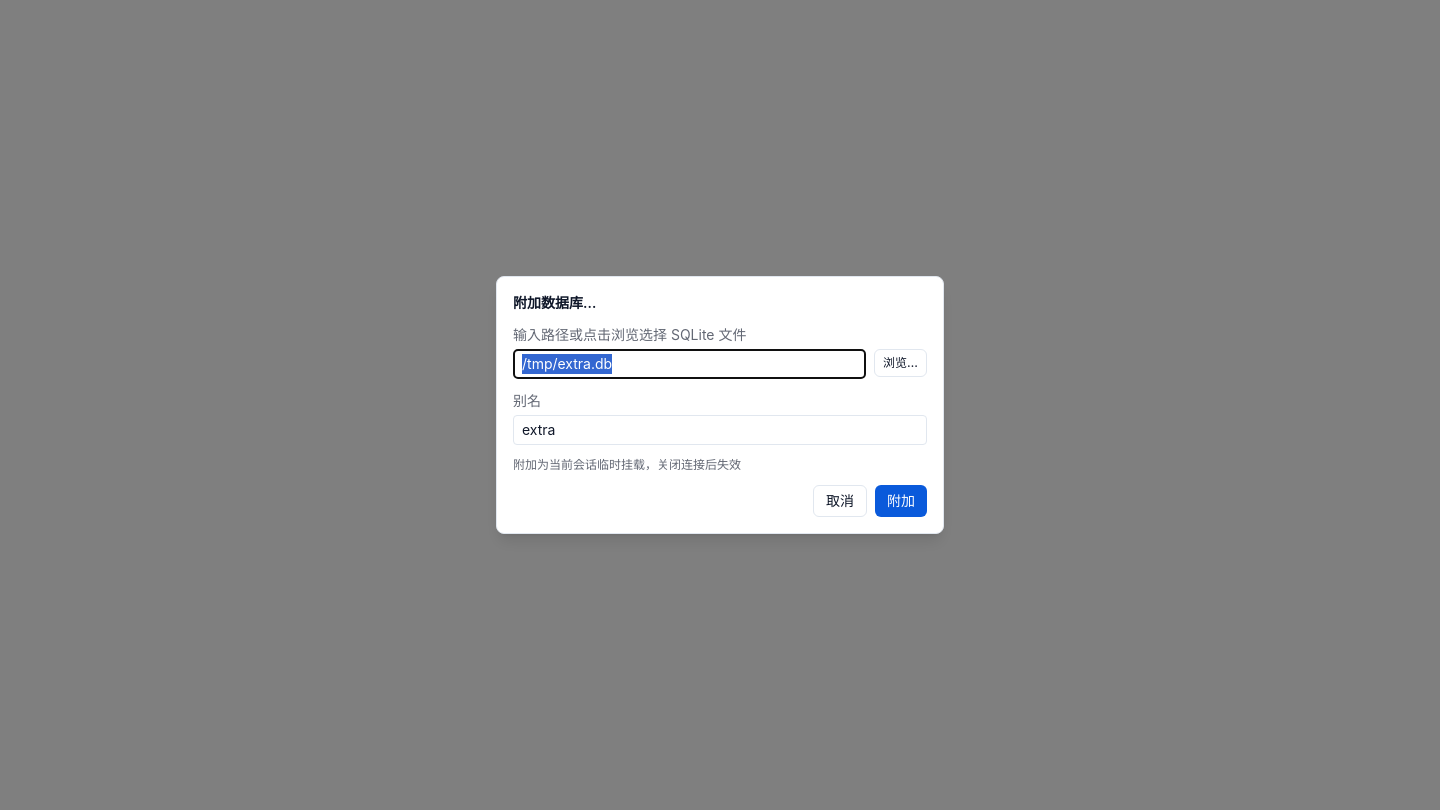
AttachDatabaseDialog › disables attach when alias is reserved
The image size is (1440, 810).
Replace the text in the field labelled "别名" with "main" at {"x": 720, "y": 430}, box [513,415,927,445]
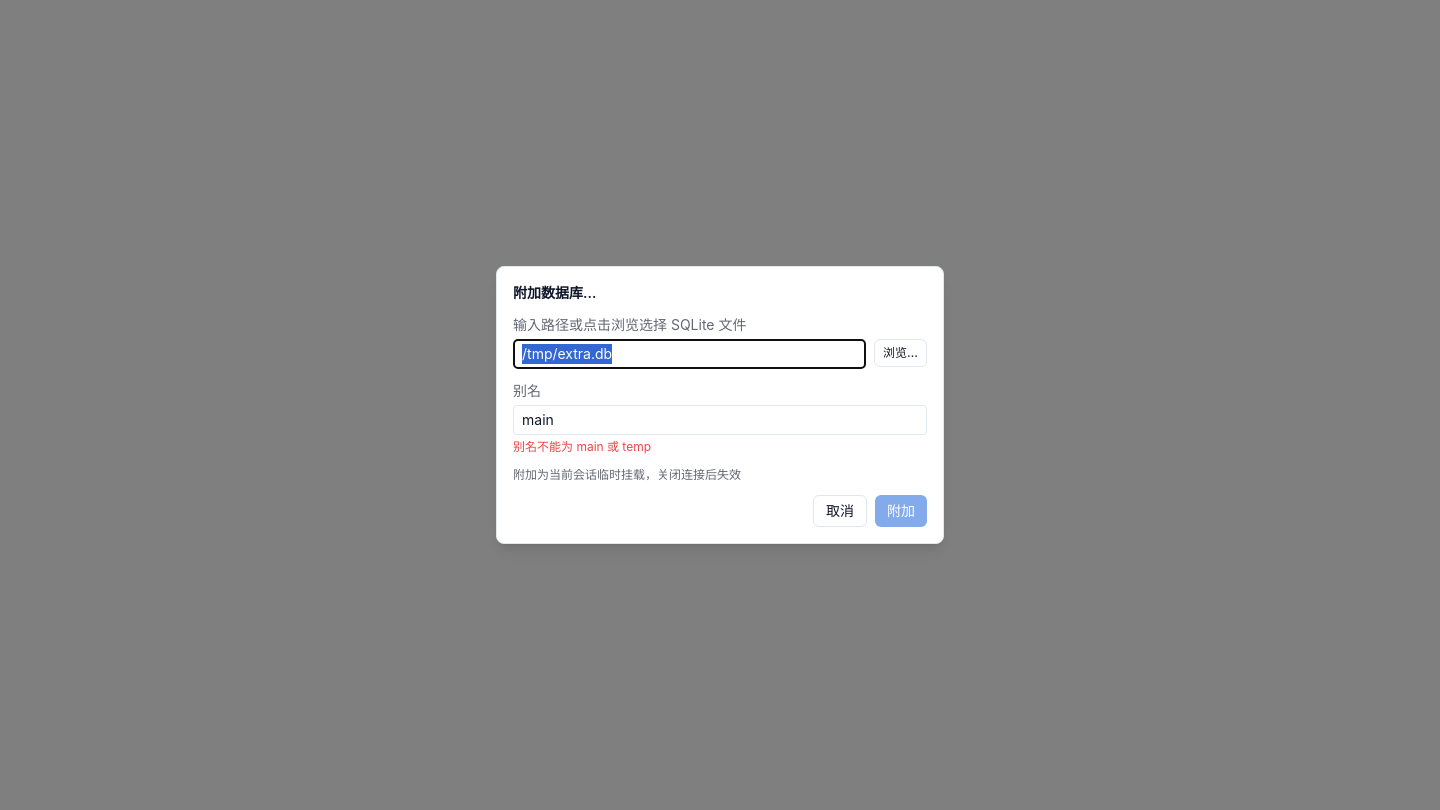
Expected: the text "别名不能为 main 或 temp" is shown, [513,439,651,454]
Expected: the button "附加" is disabled, [875,495,927,527]
